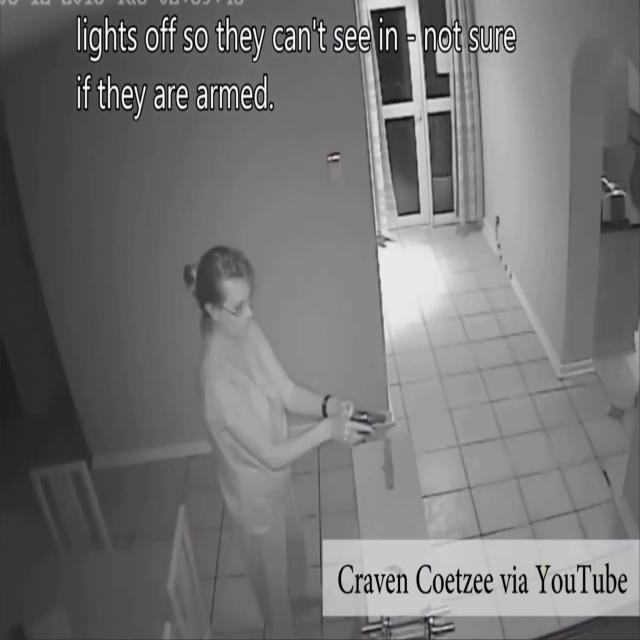Gun: (350, 408, 388, 448)
